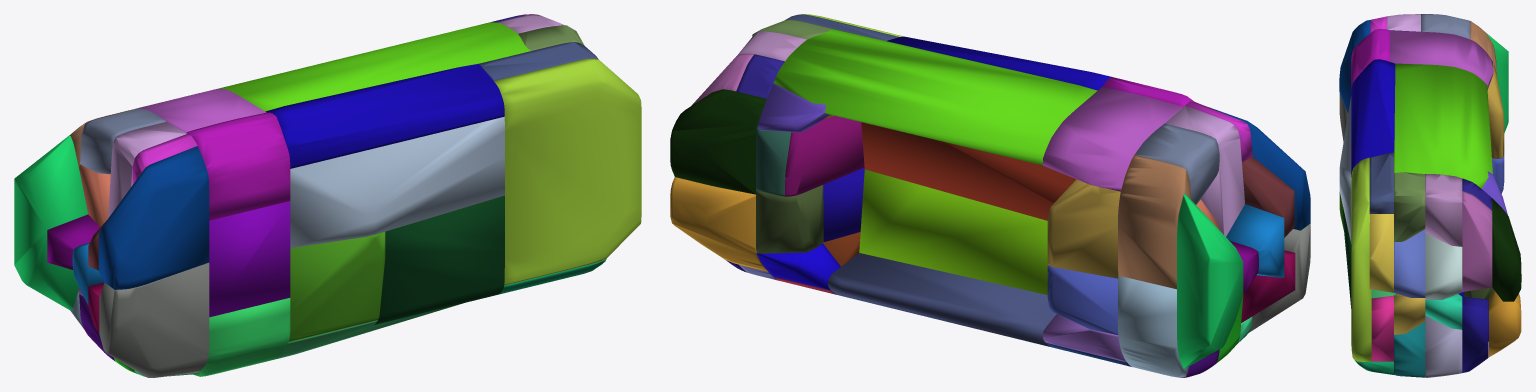
The model's file is body_collision.obj.
3 renders of one model, left to right at view 1: azimuth 30°, elevation 25°; view 2: azimuth 150°, elevation 25°; view 3: azimuth 270°, elevation 25°, orthographic. The views are drawn at different scales.
Size of the model in its own units: 0.5647 by 0.2472 by 0.2042.
